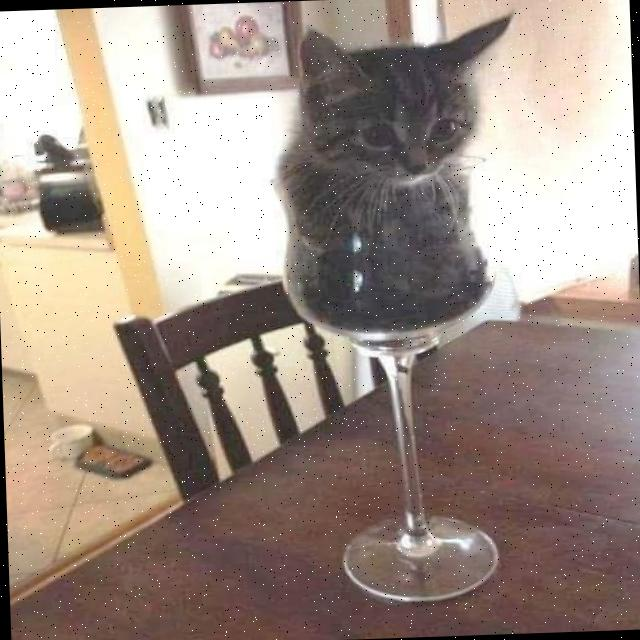cat: (258, 2, 536, 334)
